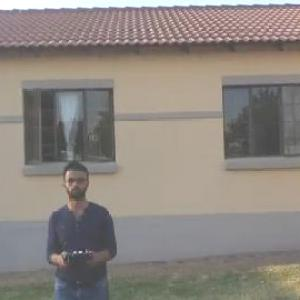follow: (40, 152, 122, 299)
